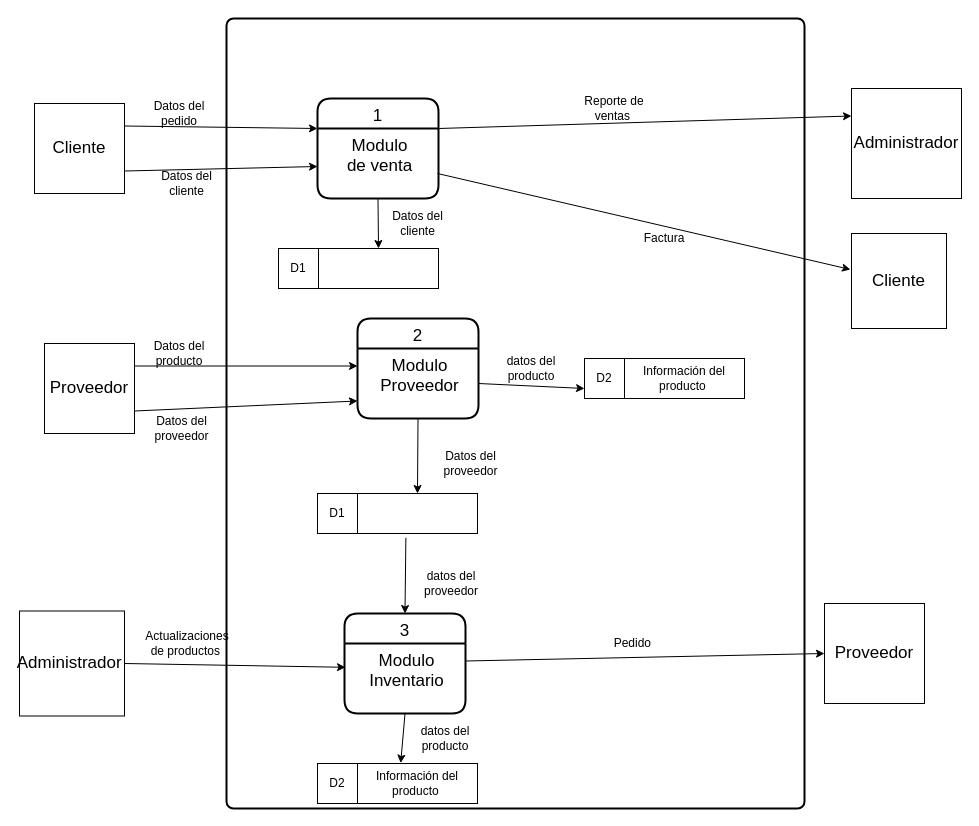
Some shapes in this 979 by 826 pixel diagram are drawn without their labels. Each missing label, with the box of its shape:
Información del cliente: (318, 248, 438, 288)
Información del proveedor: (356, 492, 478, 534)
